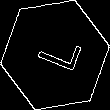L_W: (27, 31, 83, 79)
